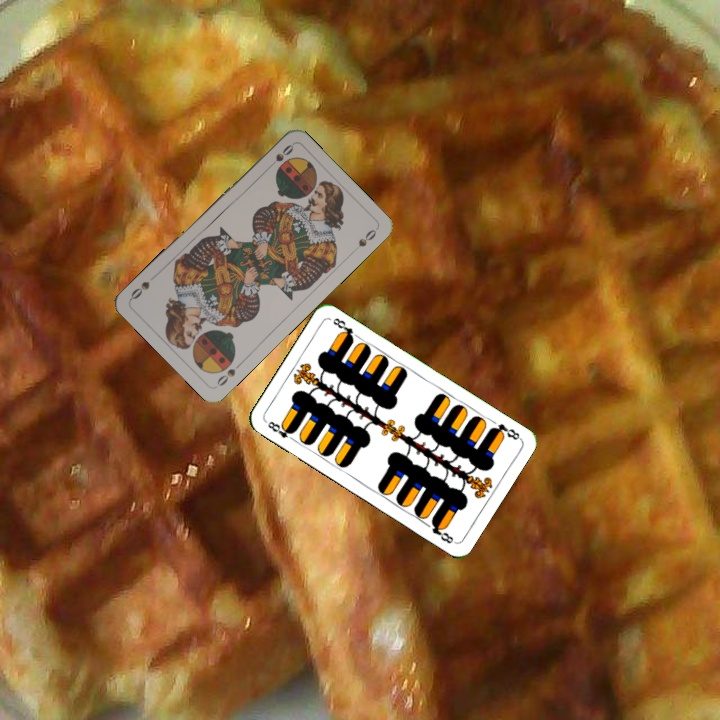E8: (263, 417, 298, 444), (486, 419, 523, 443)
SO: (263, 140, 296, 172), (213, 358, 245, 389)
